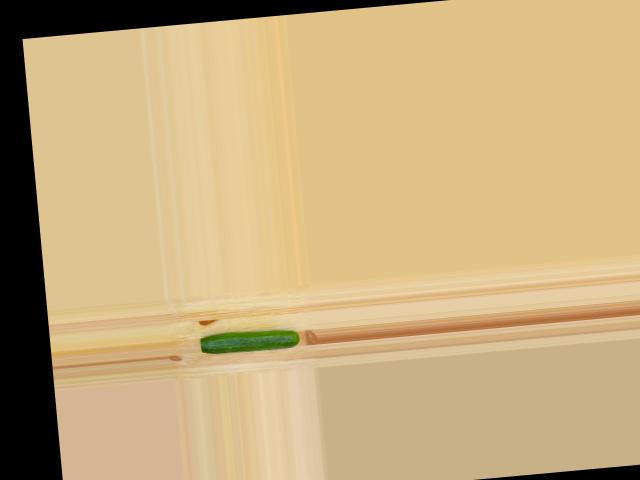cucumber: (200, 326, 300, 355)
